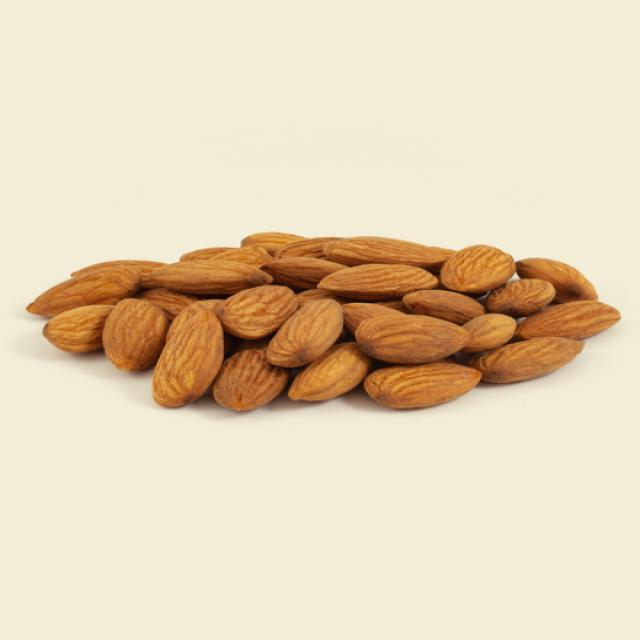almond: (154, 310, 226, 408), (27, 265, 141, 317), (365, 363, 483, 412), (355, 314, 472, 362), (212, 343, 292, 412), (268, 299, 344, 366), (102, 297, 169, 371), (480, 340, 585, 385), (289, 344, 369, 401), (516, 299, 620, 342), (142, 261, 273, 295), (219, 284, 299, 337), (316, 264, 436, 299), (40, 306, 123, 355), (322, 234, 449, 265), (441, 244, 517, 292), (516, 256, 596, 301), (400, 289, 486, 322), (486, 277, 557, 316), (461, 310, 517, 352)
